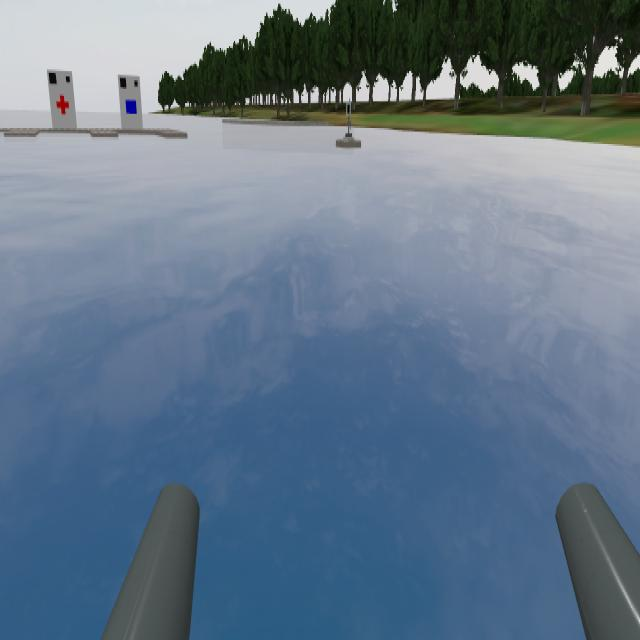black_pole: (343, 98, 355, 122)
